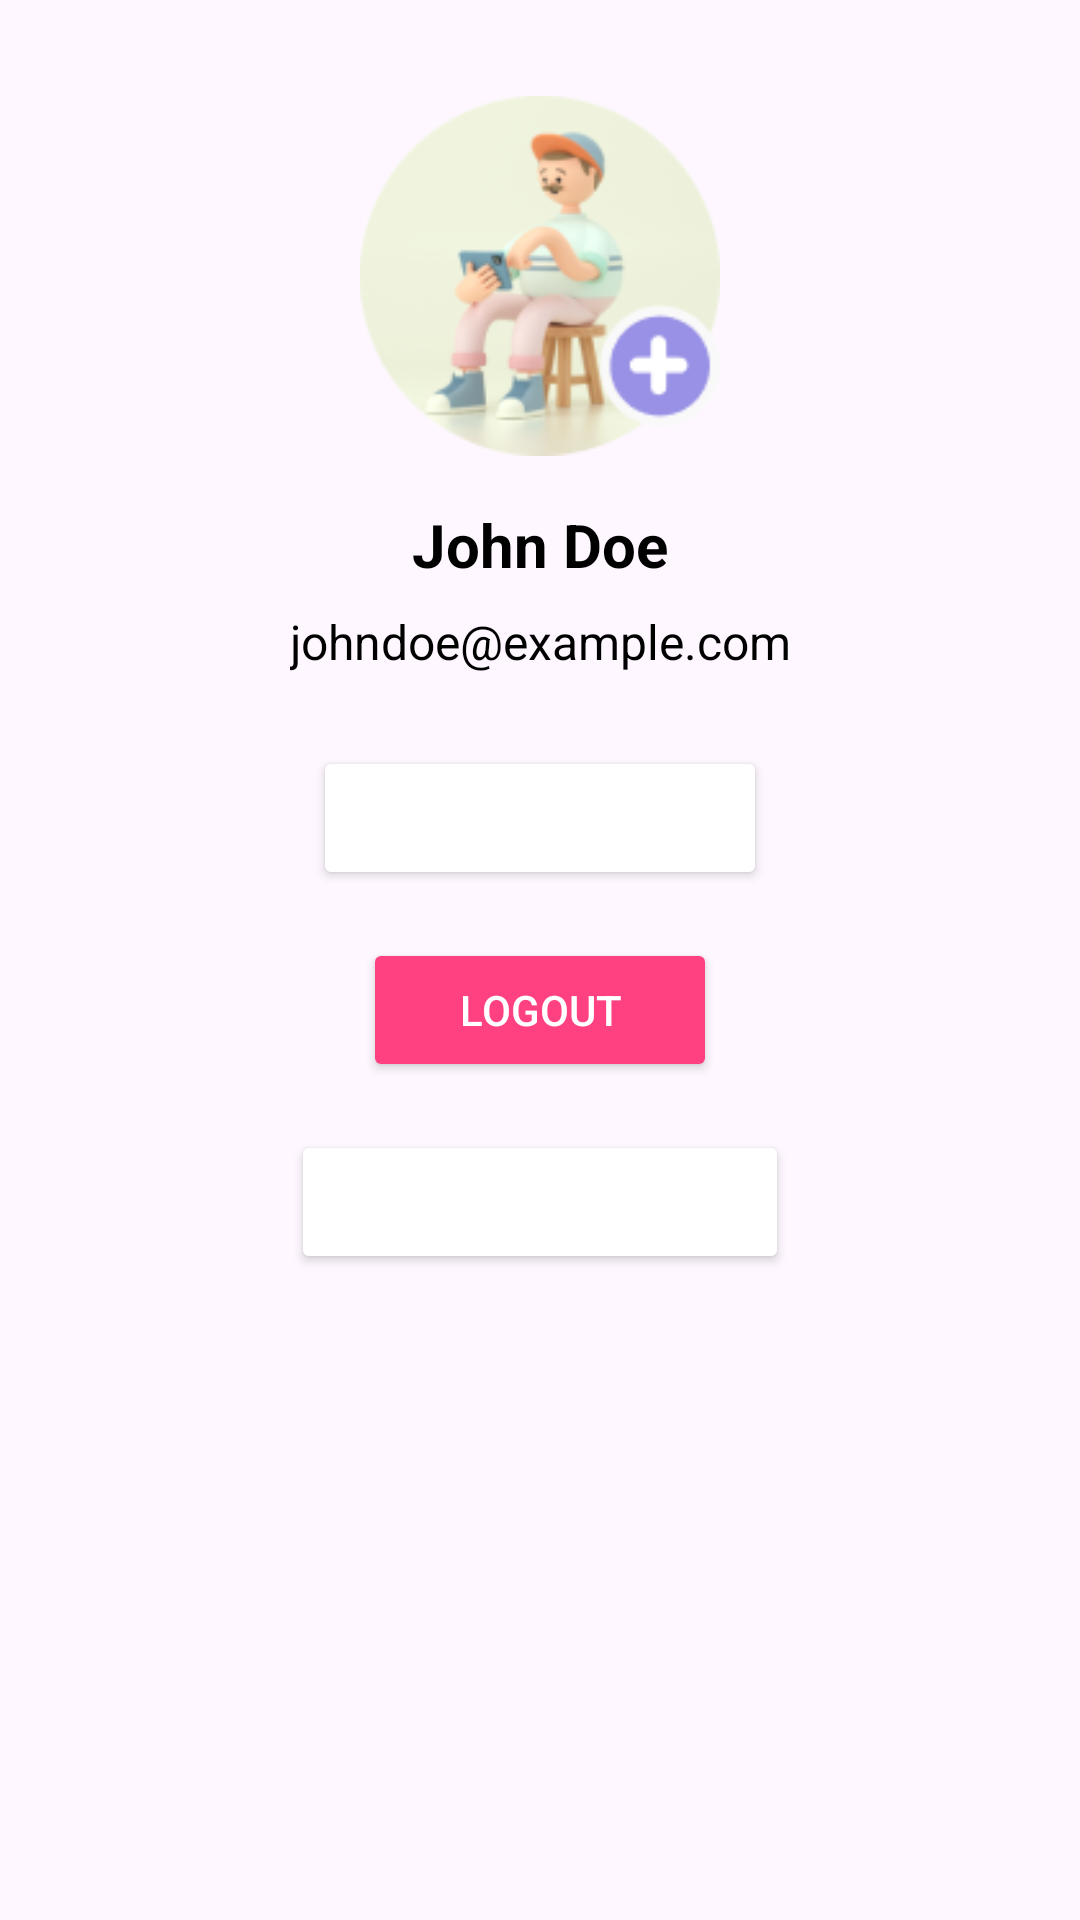

Named icons in this screenshot (1080px x 1920px) and their bounding boxes, (x1, y1, x2, y2):
Profile Image: (360, 96, 720, 456)
